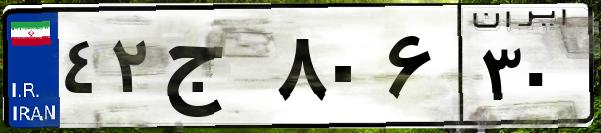0: (330, 28, 385, 110), (525, 38, 570, 115)
2: (110, 28, 158, 98)
3: (475, 38, 525, 113)
4: (57, 26, 110, 100)
6: (385, 28, 445, 110)
8: (270, 28, 330, 110)
ج: (158, 20, 270, 120)
